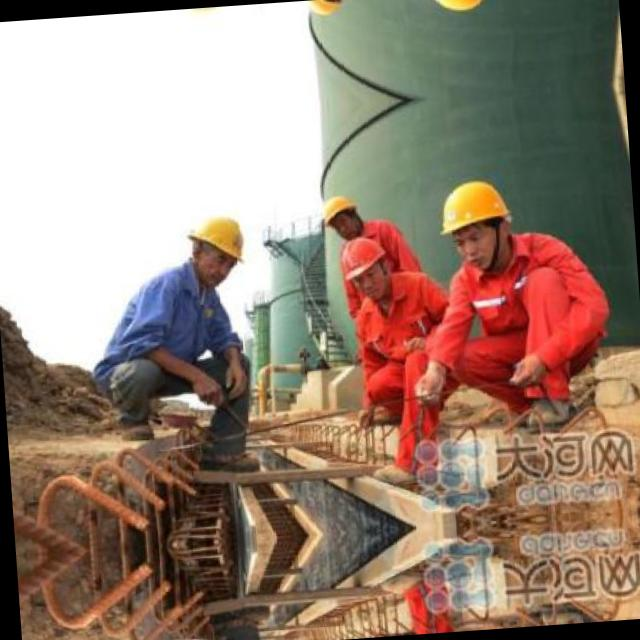helmet: (432, 175, 514, 270), (178, 210, 250, 288), (334, 234, 397, 306), (313, 185, 368, 248), (299, 0, 353, 25), (418, 0, 497, 17)
